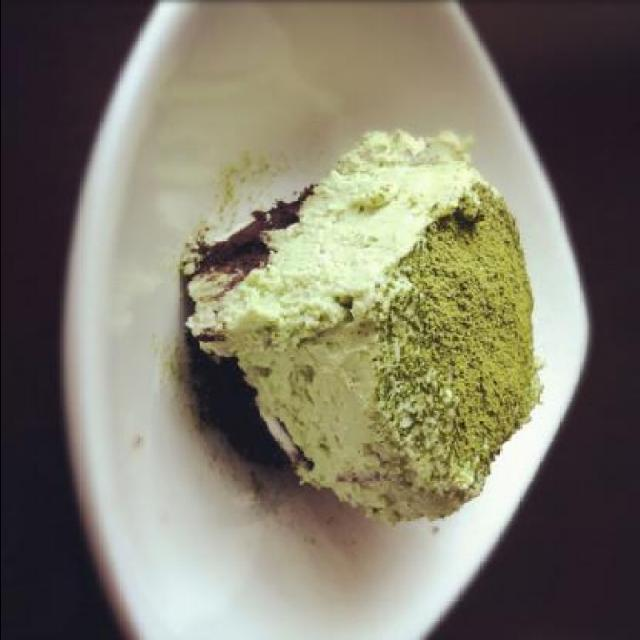Rare cheese cake: (173, 86, 561, 552)
